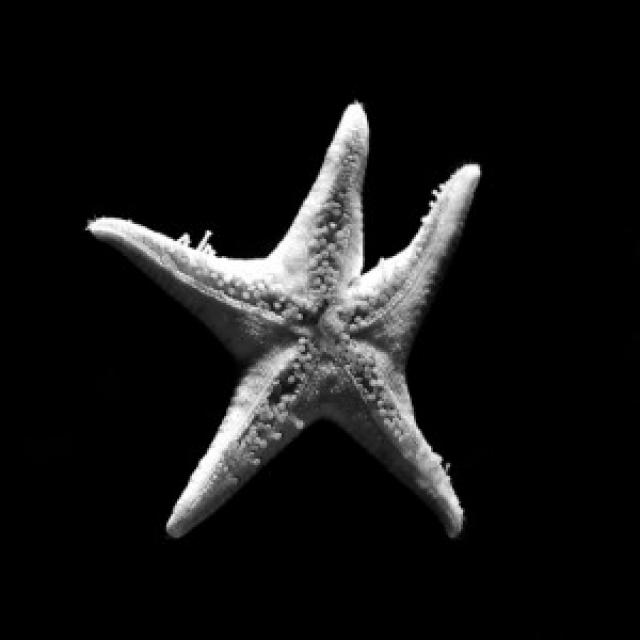Starfish: (84, 80, 490, 540)
